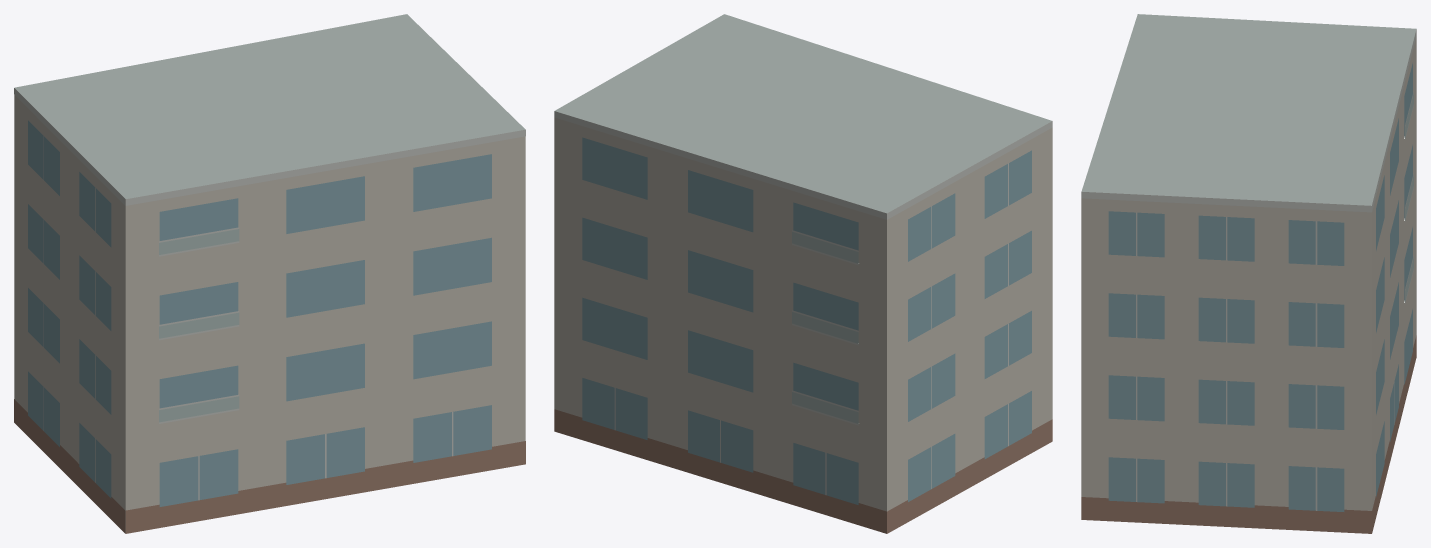
File: survey-upis-32685454.glb
3 renders of one model, left to right at view 1: azimuth 30°, elevation 25°; view 2: azimuth 150°, elevation 25°; view 3: azimuth 270°, elevation 25°, orthographic. The views are drawn at different scales.
Visible parts, largest first — view 1: survey-upis-32685454.tmp; view 2: survey-upis-32685454.tmp; view 3: survey-upis-32685454.tmp.
Part boxes in pixels (x1,y1,x2,y2): survey-upis-32685454.tmp: (14,14,525,533); survey-upis-32685454.tmp: (554,14,1052,533); survey-upis-32685454.tmp: (1081,14,1416,533).
Size of the model in its own units: 15.31 by 12.2 by 11.31.
